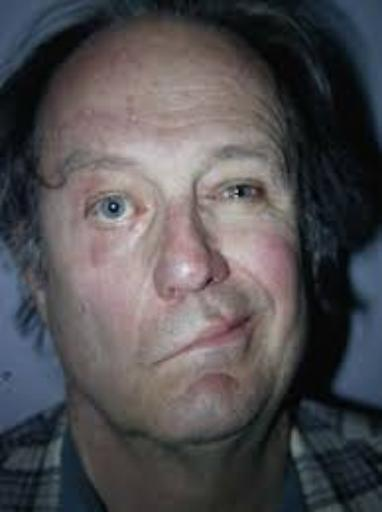left_eye: (211, 184, 265, 209)
left_lip_corner: (240, 307, 266, 336)
right_eye: (87, 195, 147, 228)
right_lip_corner: (143, 342, 197, 370)
